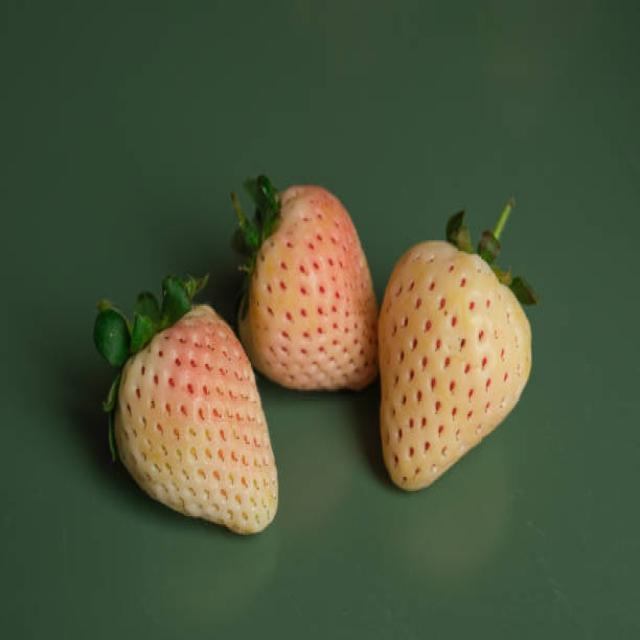Healthy Fruit: (376, 239, 533, 492), (110, 303, 279, 534), (239, 184, 382, 392)
